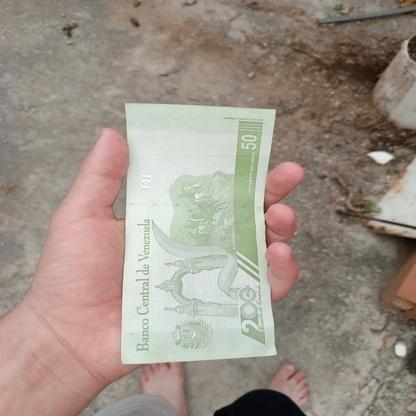fifty-back-vef: (120, 102, 277, 364)
